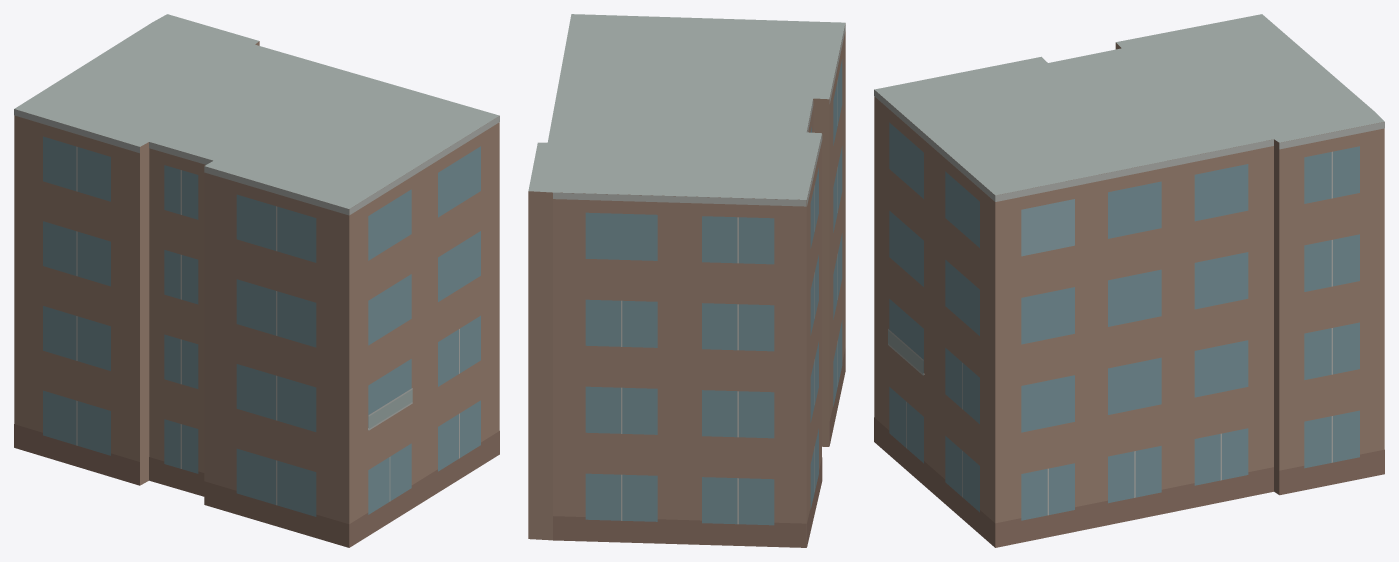
Rendered from survey-upis-32731067.glb.
3 renders of one model, left to right at view 1: azimuth 30°, elevation 25°; view 2: azimuth 150°, elevation 25°; view 3: azimuth 270°, elevation 25°, orthographic. The views are drawn at different scales.
Parts seen in each view (by area): view 1: survey-upis-32731067.tmp; view 2: survey-upis-32731067.tmp; view 3: survey-upis-32731067.tmp.
Part boxes in pixels (x1=…): survey-upis-32731067.tmp: x1=14, y1=14, x2=499, y2=547; survey-upis-32731067.tmp: x1=528, y1=14, x2=845, y2=547; survey-upis-32731067.tmp: x1=874, y1=14, x2=1384, y2=547.
Bounding box in the file's own units: 14.26 × 12.9 × 16.95.
